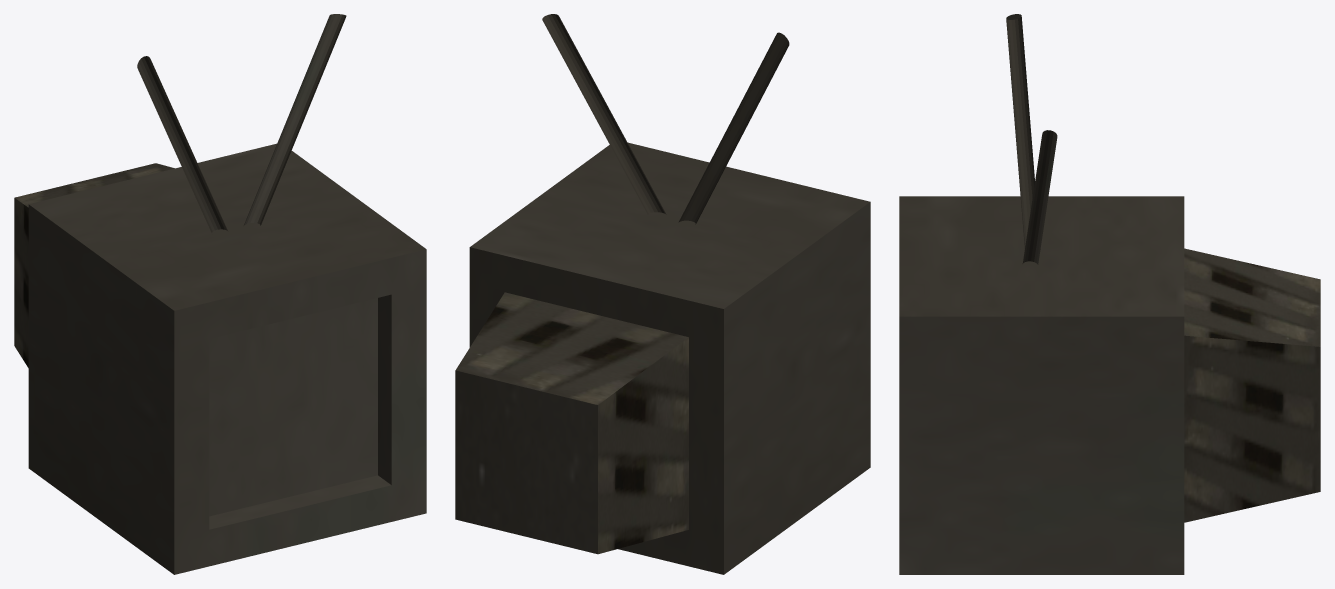
The model's file is tv first try.glb.
3 views of the same model, side by side, from view 1: azimuth 30°, elevation 25°; view 2: azimuth 150°, elevation 25°; view 3: azimuth 270°, elevation 25° (orthographic). The views are drawn at different scales.
Parts seen in each view (by area): view 1: Cube; view 2: Cube; view 3: Cube.
Part boxes in pixels (x1,y1,x2,y2): Cube: (14, 14, 426, 574); Cube: (455, 14, 870, 574); Cube: (899, 14, 1320, 574).
Bounding box in the file's own units: 0.6742 × 1.19 × 0.9964.
1 material, 1 textured.
